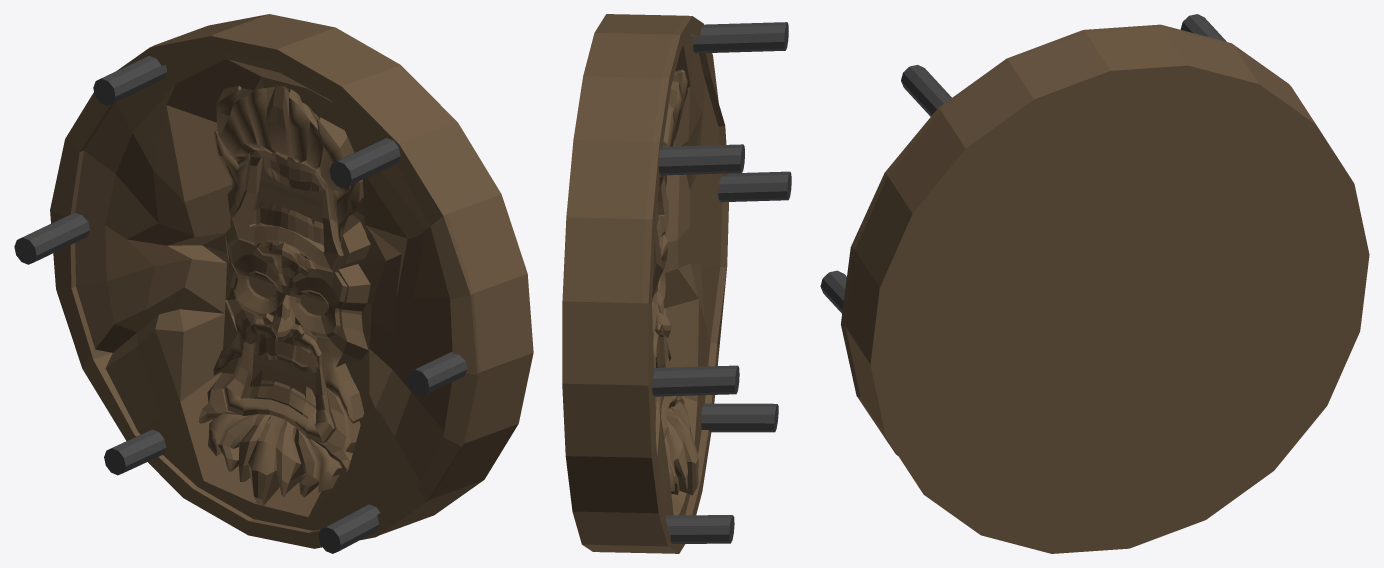
The model's file is Wiel puzzel 1 segment 1.fbx.
3 renders of one model, left to right at view 1: azimuth 30°, elevation 25°; view 2: azimuth 150°, elevation 25°; view 3: azimuth 270°, elevation 25°, orthographic.
Visible parts, largest first — view 1: masker_rad_segment_1; view 2: masker_rad_segment_1; view 3: masker_rad_segment_1.
Boxes of the visible parts, x1,y1,x2,y2 form: masker_rad_segment_1: (14,14,533,553); masker_rad_segment_1: (562,14,791,553); masker_rad_segment_1: (820,14,1369,553).
Bounding box in the file's own units: 2.29 × 3.51 × 3.54.
